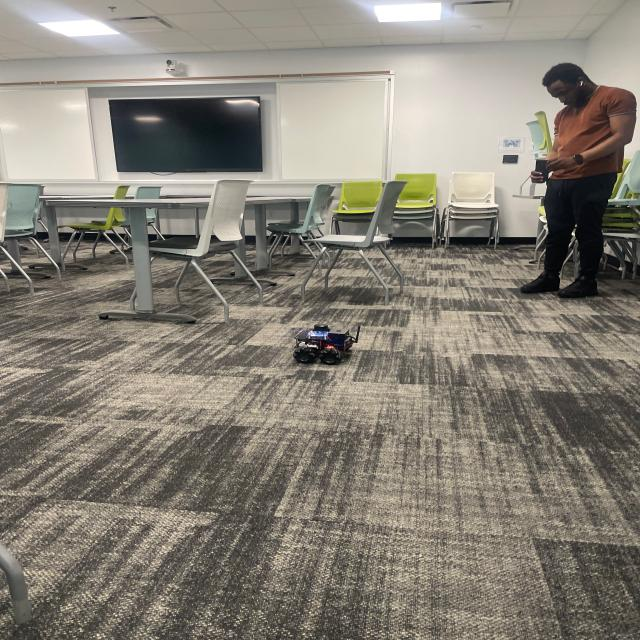ArduinoCar: (291, 316, 362, 366)
